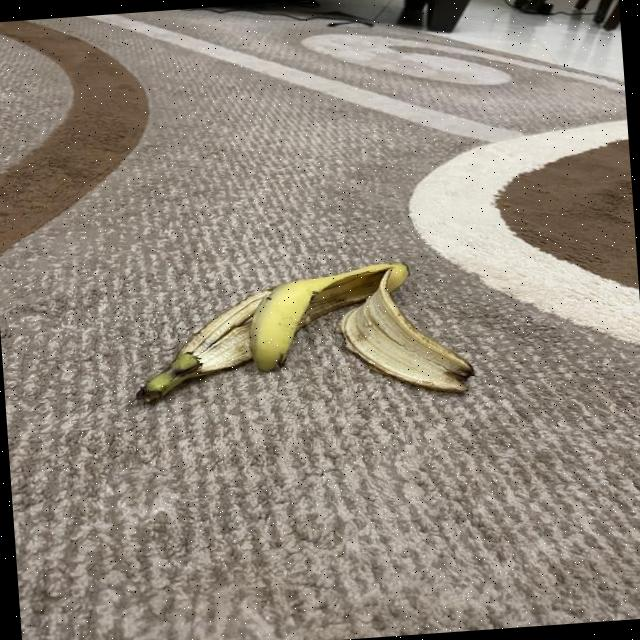banana-peel: (126, 255, 476, 416), (242, 259, 414, 373)
